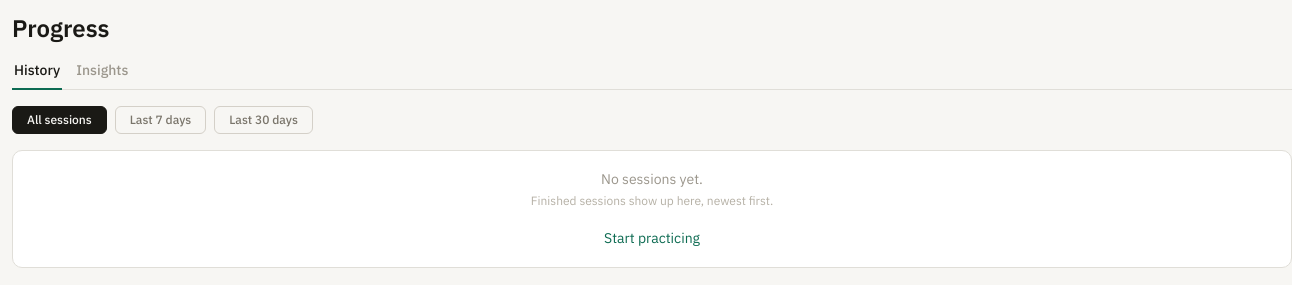
Test case: ProgressPage › still first-runs an instrument that has never been practiced
The image size is (1292, 285).
Step 1. Click the tab "Insights" → (102, 75), box [74,60,130,90]
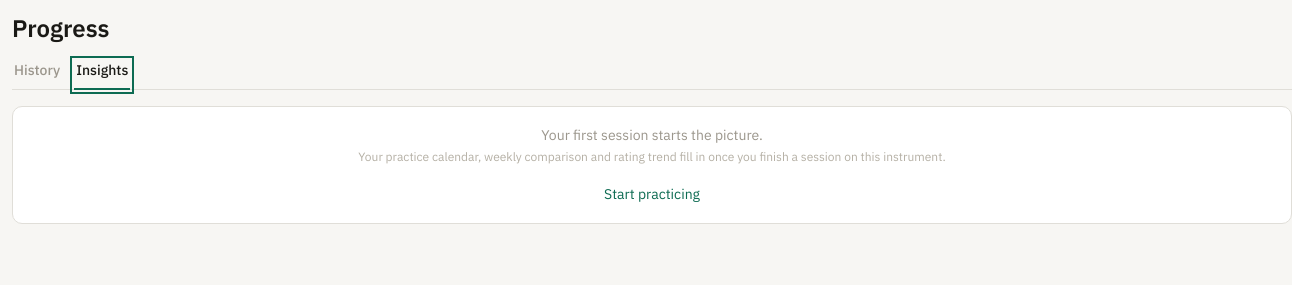
Result: the text "Your first session starts the picture." is shown at [541,126,763,144]
